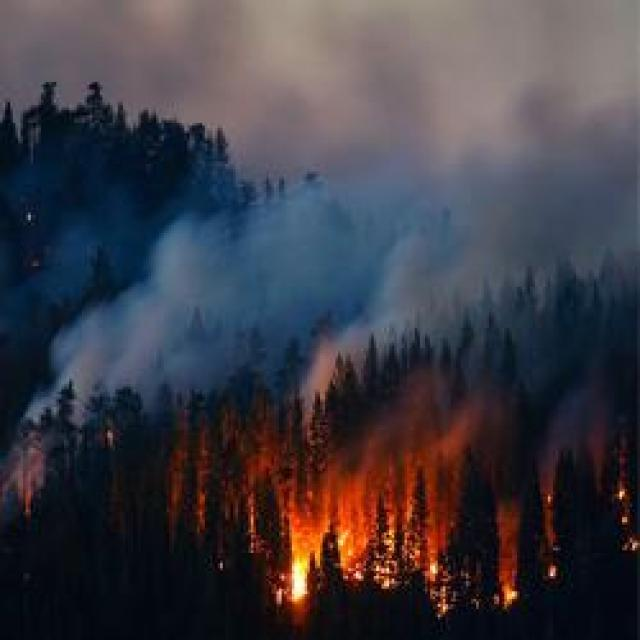Fire: (294, 554, 308, 604)
Smoke: (256, 7, 640, 130)
